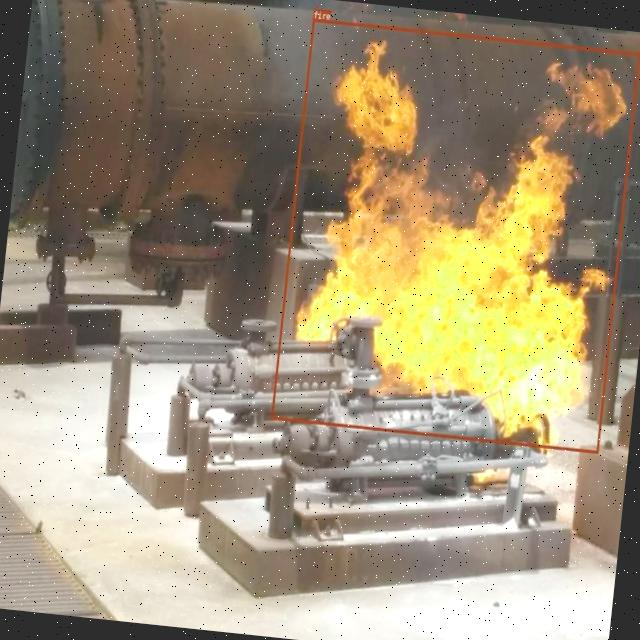fire: (270, 18, 639, 452)
